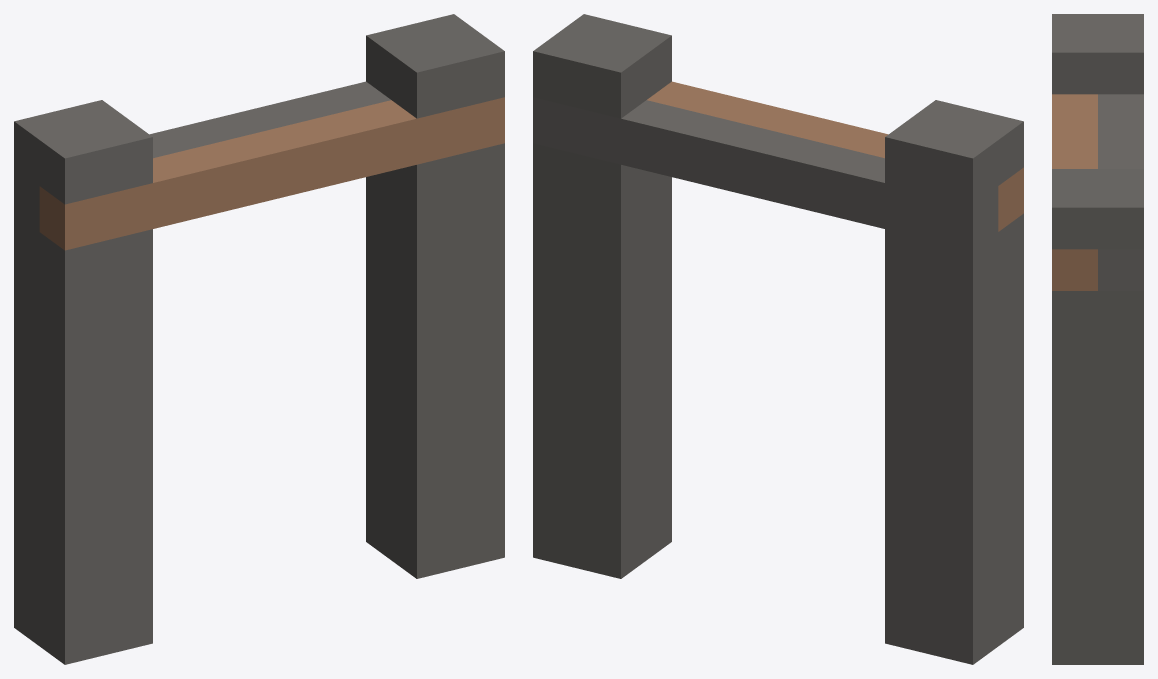
The model's file is tenazas_oxidado_01.glb.
3 renders of one model, left to right at view 1: azimuth 30°, elevation 25°; view 2: azimuth 150°, elevation 25°; view 3: azimuth 270°, elevation 25°, orthographic. The views are drawn at different scales.
Visible parts, largest first — view 1: tenazas_oxidado; view 2: tenazas_oxidado; view 3: tenazas_oxidado.
Boxes of the visible parts, left/top/right/bottom form: tenazas_oxidado: left=14, top=14, right=504, bottom=664; tenazas_oxidado: left=533, top=14, right=1023, bottom=664; tenazas_oxidado: left=1052, top=14, right=1143, bottom=664.
Bounding box in the file's own units: 0.7692 × 0.8462 × 0.1538.
